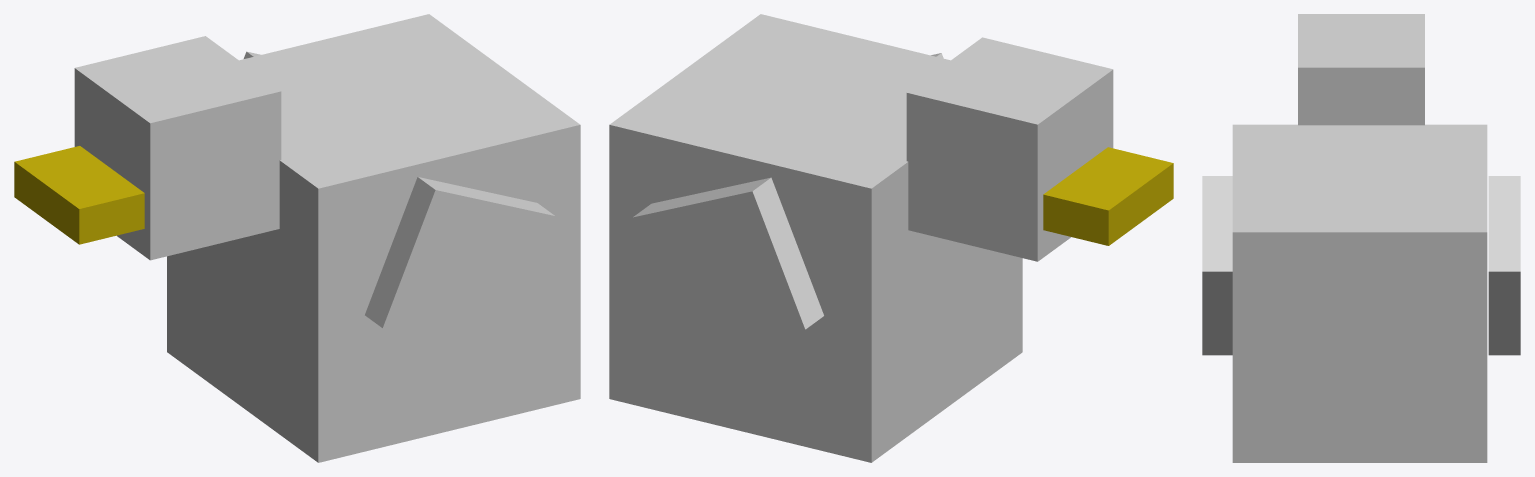
Rendered from chicken.fbx.
3 views of the same model, side by side, from view 1: azimuth 30°, elevation 25°; view 2: azimuth 150°, elevation 25°; view 3: azimuth 270°, elevation 25° (orthographic). The views are drawn at different scales.
Parts seen in each view (by area): view 1: polySurface1; view 2: polySurface1; view 3: polySurface1.
Part boxes in pixels (box(x1,y1,x2,y2)): polySurface1: box(14, 14, 580, 462); polySurface1: box(609, 14, 1173, 462); polySurface1: box(1202, 14, 1520, 462).
Bounding box in the file's own units: 6.98 × 5 × 5.
